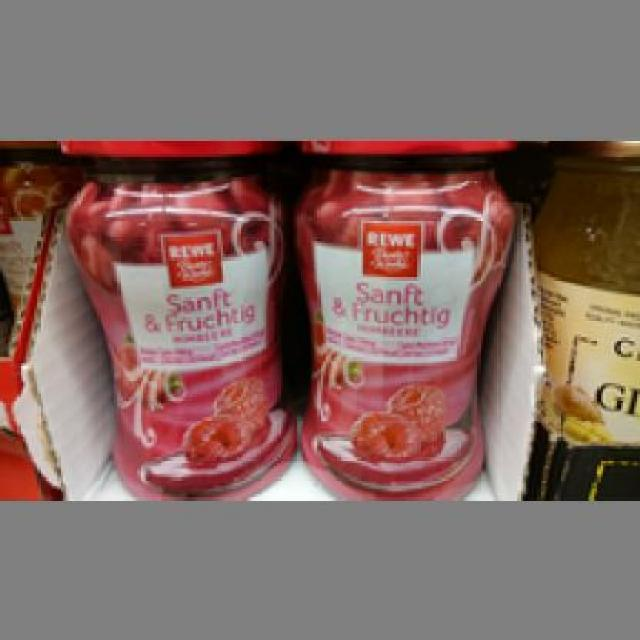Jam: (52, 140, 294, 497), (291, 137, 520, 497)
